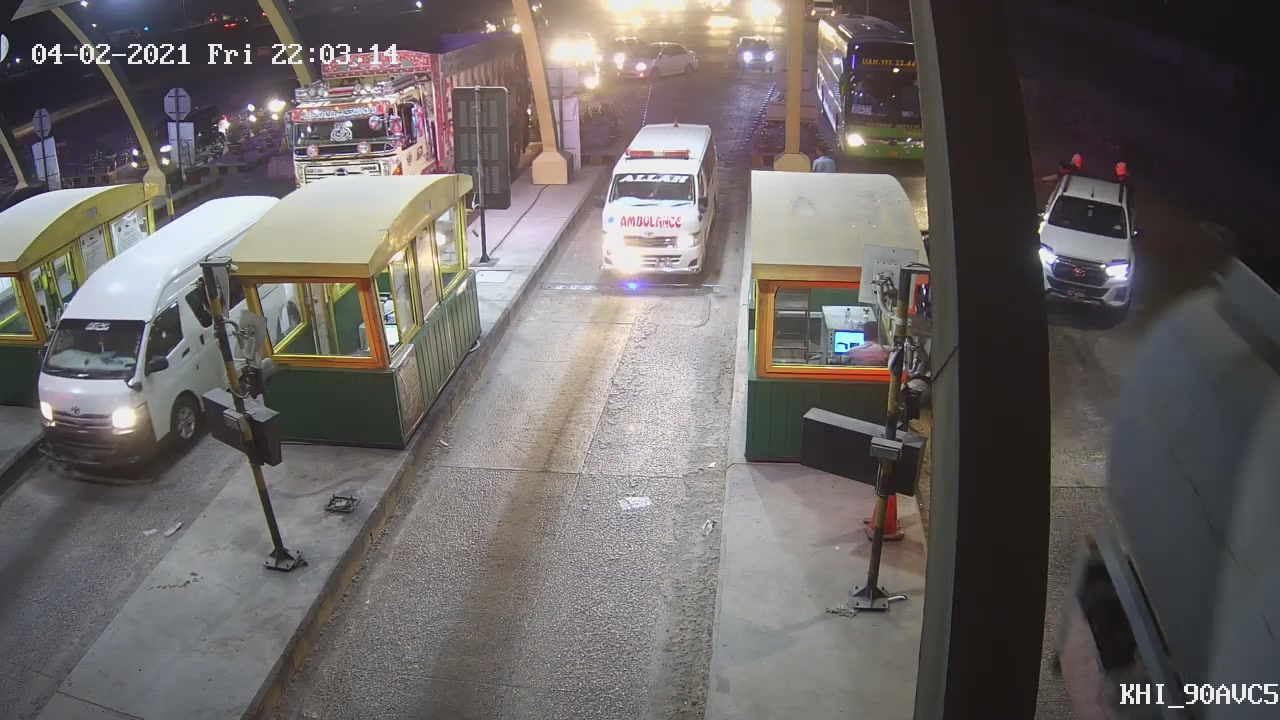F2: (590, 112, 721, 290)
